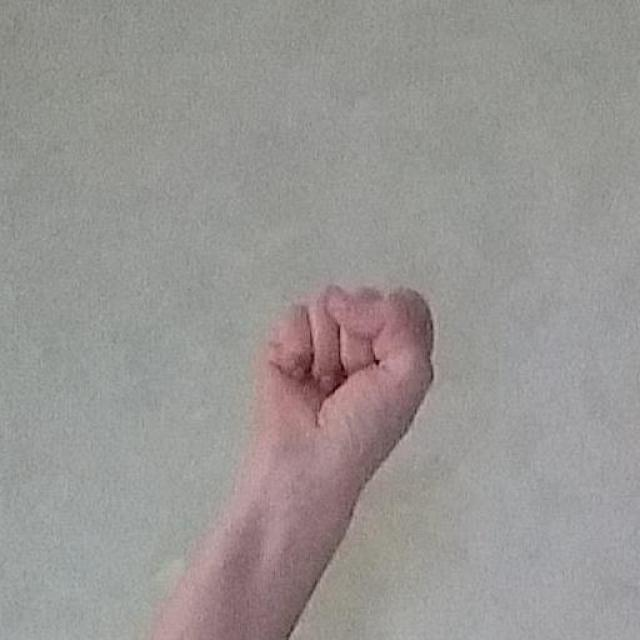hand: (237, 281, 435, 505)
